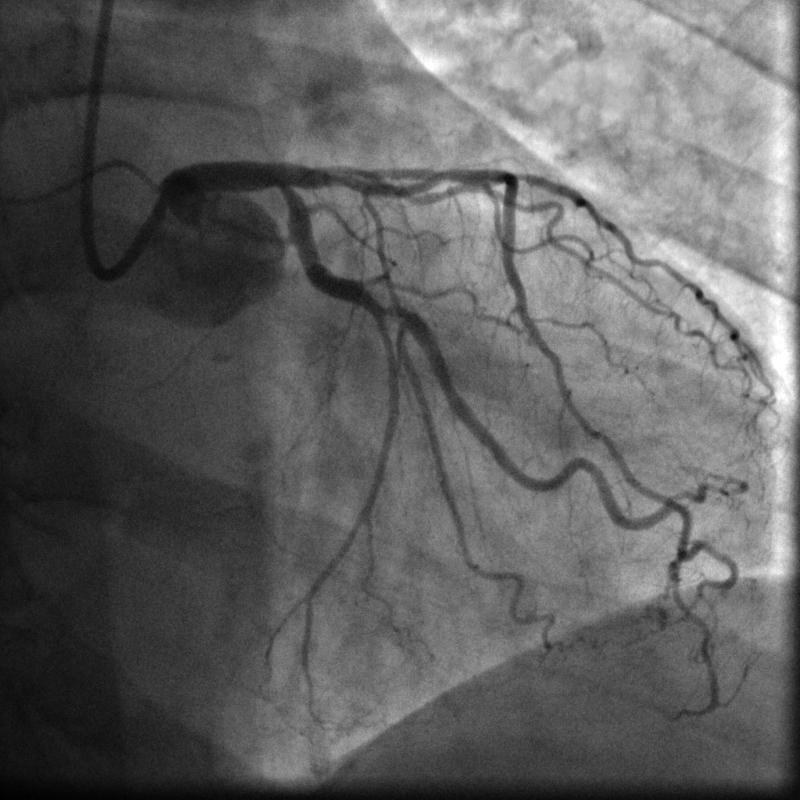Stenosis: (374, 299, 408, 322)
